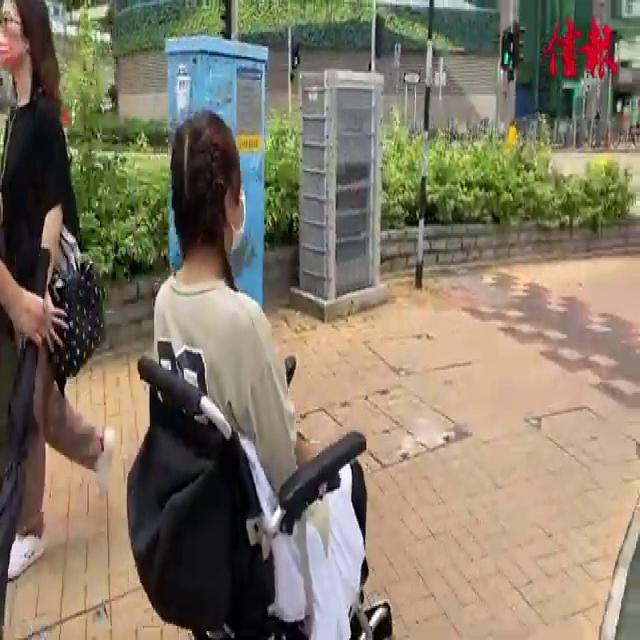wheelchairs: (112, 314, 415, 640)
